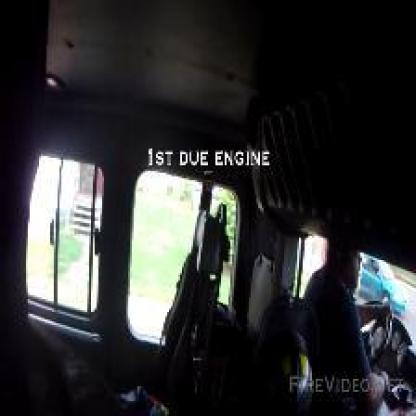other: (129, 162, 173, 330)
